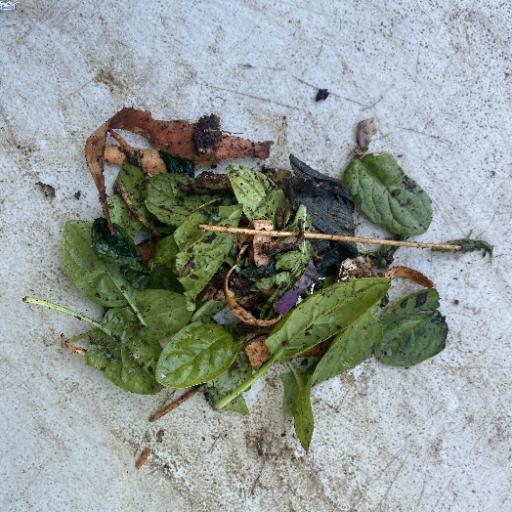Waste: (22, 106, 492, 454)
